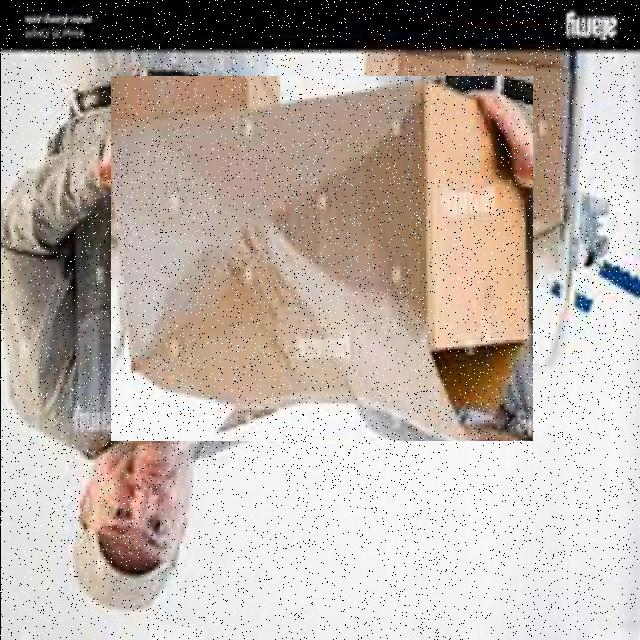defect: (110, 75, 532, 440)
